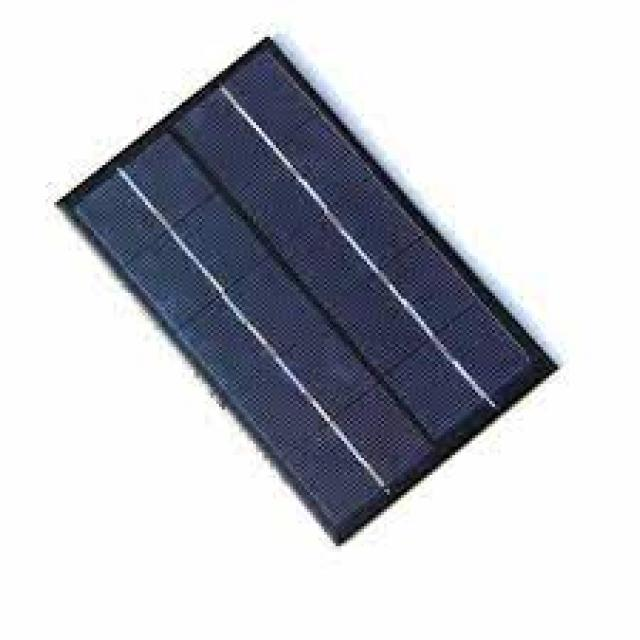no faulty: (61, 38, 561, 542)
